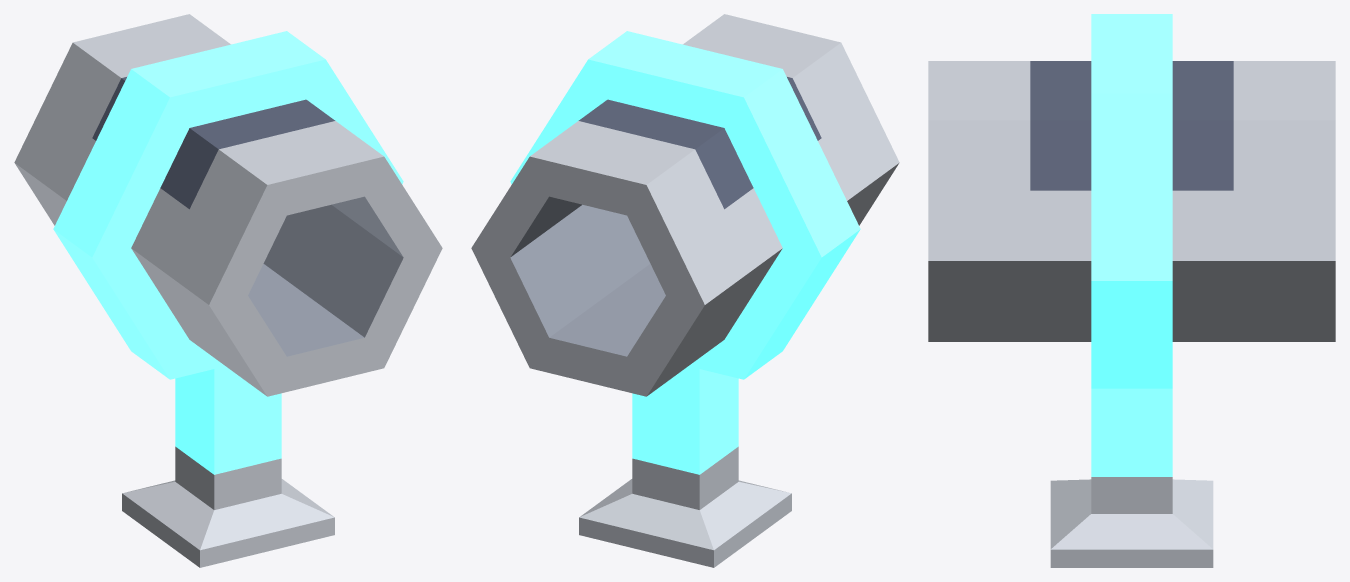
Rendered from pipe_ringHigh.glb.
3 renders of one model, left to right at view 1: azimuth 30°, elevation 25°; view 2: azimuth 150°, elevation 25°; view 3: azimuth 270°, elevation 25°, orthographic. The views are drawn at different scales.
Visible parts, largest first — view 1: pipe_ringHigh; view 2: pipe_ringHigh; view 3: pipe_ringHigh.
Part boxes in pixels (x1,y1,x2,y2): pipe_ringHigh: (14,14,442,567); pipe_ringHigh: (471,14,899,567); pipe_ringHigh: (928,14,1335,567).
Size of the model in its own units: 0.9238 by 1.3 by 1.
